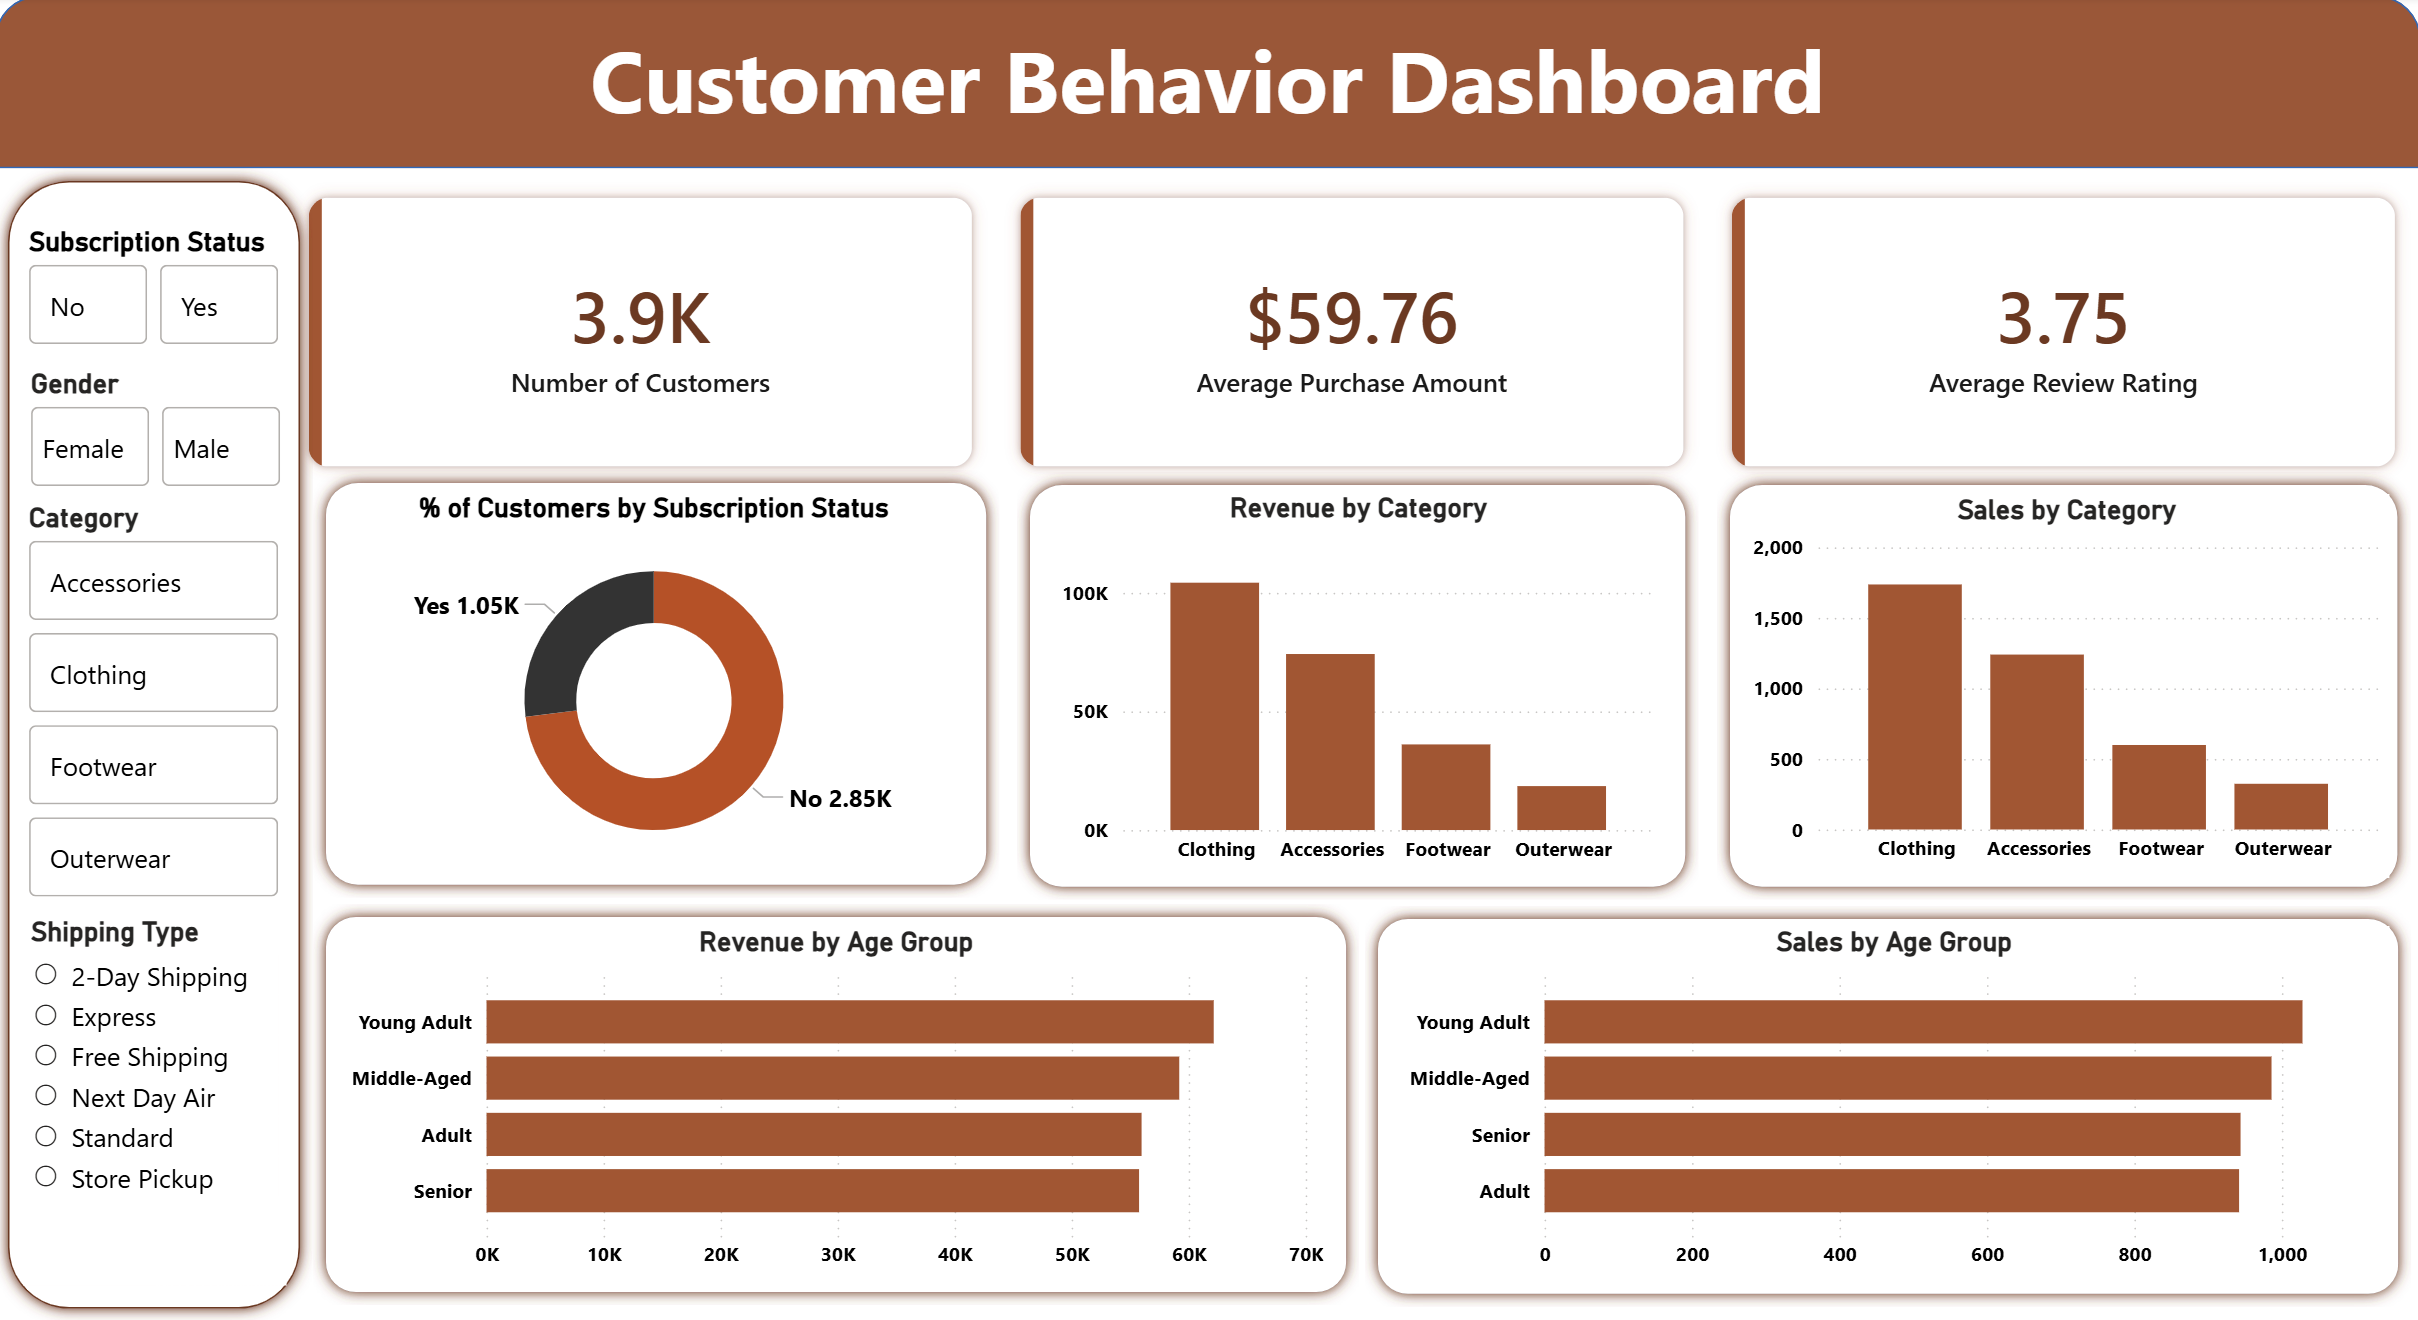

Layout of this report page (visuals, bound fields, positions):
{"tool":"powerbi","page":{"name":"Page 1","canvas":[1500,820],"ordinal":0},"visuals":[{"type":"cardVisual","fields":{"Data":["public customer.Number of customers","public customer.Average purchase amount","public customer.Average review rating"]},"box":[177.8,109.1,1323.7,198.7],"z":0},{"type":"shape","box":[0,0,1500,106.7],"z":1000},{"type":"textbox","box":[0,10.4,1500,96.5],"z":2000},{"type":"shape","box":[197.2,292.8,424.3,264.4],"z":3000},{"type":"donutChart","title":"% of Customers by Subscription Status","fields":{"Category":["public customer.subscription_status"],"Y":["CountNonNull(public customer.customer_id)"]},"box":[213.6,306.3,387,239],"z":4000},{"type":"shape","box":[632,294.3,421.3,264.4],"z":5000},{"type":"clusteredColumnChart","title":"Revenue by Category","fields":{"Y":["Sum(public customer.purchase_amount)"],"Category":["public customer.category"]},"box":[654.4,306.3,378,239],"z":6000},{"type":"shape","box":[1065.2,294.3,428.8,264.4],"z":7000},{"type":"clusteredColumnChart","title":"Sales by Category","fields":{"Category":["public customer.category"],"Y":["CountNonNull(public customer.customer_id)"]},"box":[1082.2,308,398.3,237.5],"z":8000},{"type":"shape","box":[0,106.7,196.7,713.3],"z":9000},{"type":"advancedSlicerVisual","fields":{"Values":["public customer.subscription_status"]},"box":[15.7,142.2,165.7,78.3],"z":10000},{"type":"advancedSlicerVisual","fields":{"Values":["public customer.gender"]},"box":[17,229.6,164.3,78.3],"z":11000},{"type":"advancedSlicerVisual","title":"Category","fields":{"Values":["public customer.category"]},"box":[15.7,313,164.3,249.1],"z":12000},{"type":"listSlicer","title":"Shipping Type","fields":{"Values":["public customer.shipping_type"]},"box":[17,568.7,163,228.3],"z":13000},{"type":"shape","box":[197.2,561.8,646.9,248],"z":14000},{"type":"clusteredBarChart","title":"Revenue by Age Group","fields":{"Y":["Sum(public customer.purchase_amount)"],"Category":["public customer.age_group"]},"box":[213.6,575.2,612.5,221.1],"z":15000},{"type":"shape","box":[847.8,562.2,647,247.8],"z":16000},{"type":"clusteredBarChart","title":"Sales by Age Group","fields":{"Category":["public customer.age_group"],"Y":["CountNonNull(public customer.customer_id)"]},"box":[868,575.2,612.5,221.1],"z":17000}]}

Visuals, with their boxes in screenshot pixels (x1, y1, x2, y2), scaled from the page's 1500x820 canvas onto the 2418x1320 screenshot:
cardVisual - public customer.Number of customers x public customer.Average purchase amount: l=287, t=176, r=2417, b=495
shape: l=0, t=0, r=2417, b=172
textbox: l=0, t=17, r=2417, b=172
shape: l=318, t=471, r=1002, b=897
"% of Customers by Subscription Status" donutChart: l=344, t=493, r=968, b=878
shape: l=1019, t=474, r=1698, b=899
"Revenue by Category" clusteredColumnChart: l=1055, t=493, r=1664, b=878
shape: l=1717, t=474, r=2408, b=899
"Sales by Category" clusteredColumnChart: l=1745, t=496, r=2387, b=878
shape: l=0, t=172, r=317, b=1319
advancedSlicerVisual - public customer.subscription_status: l=25, t=229, r=292, b=355
advancedSlicerVisual - public customer.gender: l=27, t=370, r=292, b=496
"Category" advancedSlicerVisual: l=25, t=504, r=290, b=905
"Shipping Type" listSlicer: l=27, t=915, r=290, b=1283
shape: l=318, t=904, r=1361, b=1304
"Revenue by Age Group" clusteredBarChart: l=344, t=926, r=1332, b=1282
shape: l=1367, t=905, r=2410, b=1304
"Sales by Age Group" clusteredBarChart: l=1399, t=926, r=2387, b=1282
